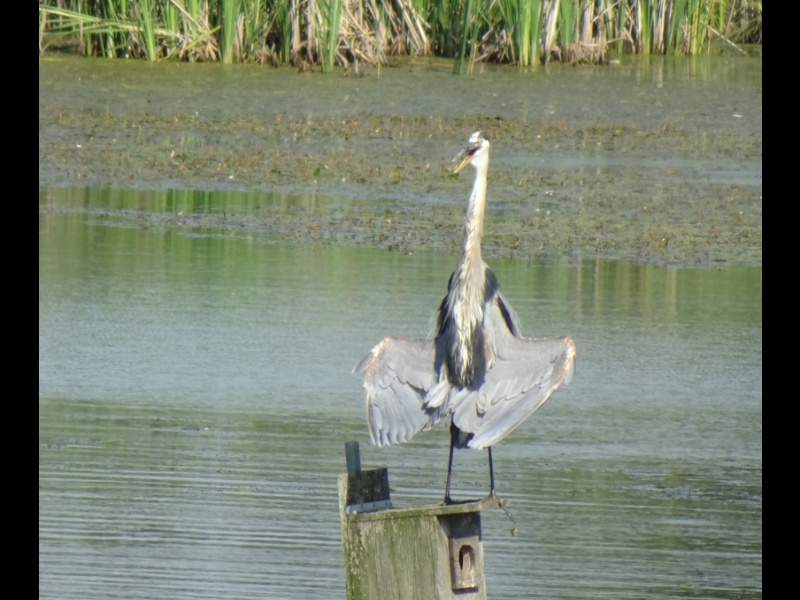heron: (360, 126, 580, 506)
